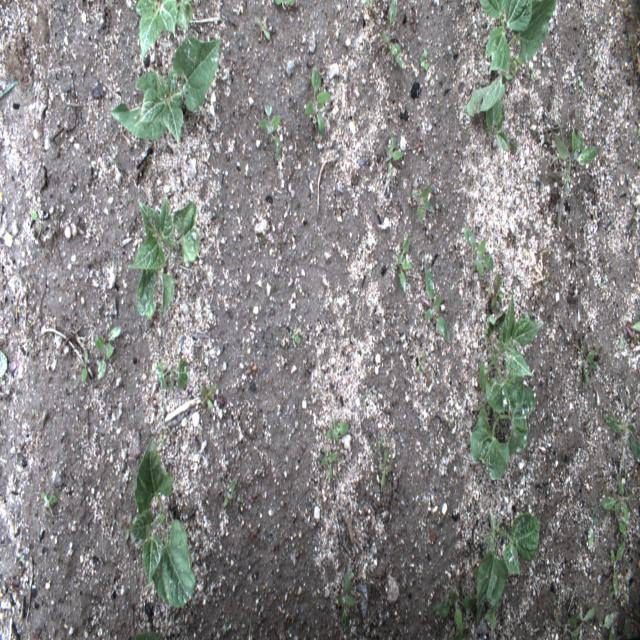crop: (127, 437, 195, 609), (110, 36, 220, 142), (465, 0, 556, 117), (126, 196, 199, 322), (474, 506, 541, 627), (478, 295, 545, 413), (471, 384, 536, 481), (134, 0, 193, 58), (484, 94, 508, 150), (156, 358, 190, 392), (484, 596, 499, 632), (131, 630, 164, 640)
weed: (548, 106, 600, 202), (434, 575, 478, 636), (602, 394, 640, 463), (599, 470, 634, 537), (424, 267, 449, 343), (304, 67, 331, 135), (381, 0, 406, 69), (462, 227, 493, 278), (96, 325, 120, 379), (259, 105, 281, 160), (336, 567, 355, 629), (411, 182, 435, 226), (396, 236, 412, 294), (384, 130, 404, 172), (611, 540, 625, 598), (578, 345, 598, 384), (326, 411, 351, 442), (572, 607, 595, 639), (321, 445, 338, 481), (587, 503, 600, 550), (377, 448, 392, 488), (555, 613, 578, 639), (199, 381, 219, 410), (476, 392, 490, 428), (490, 274, 504, 309), (29, 206, 44, 238), (223, 477, 238, 507), (253, 14, 270, 40), (604, 610, 616, 640), (0, 79, 18, 98), (41, 492, 59, 507), (625, 321, 640, 339), (415, 352, 427, 374), (372, 437, 384, 459), (623, 620, 634, 640), (0, 349, 7, 378), (290, 324, 300, 344), (419, 49, 428, 71), (82, 351, 88, 380), (274, 0, 296, 6), (620, 328, 626, 349), (364, 0, 375, 9), (528, 64, 534, 80)
